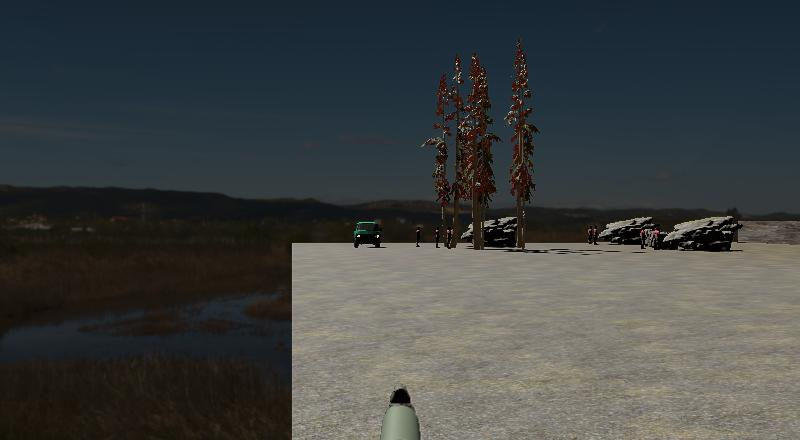Human: (639, 225, 648, 250)
car: (353, 219, 382, 248)
